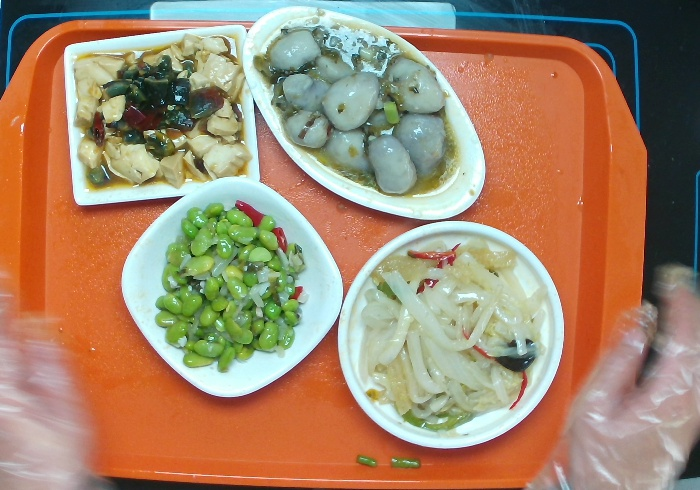HZYJPL-Si_Fang_Die: (64, 23, 264, 208)
HZYJPL-Si_Fang_Yuan_Die: (120, 176, 345, 400)
HZYJPL-Xiao_Yu_Die: (240, 3, 491, 221)
HZYJPL-Xiao_Yuan_Die: (329, 216, 567, 452)
